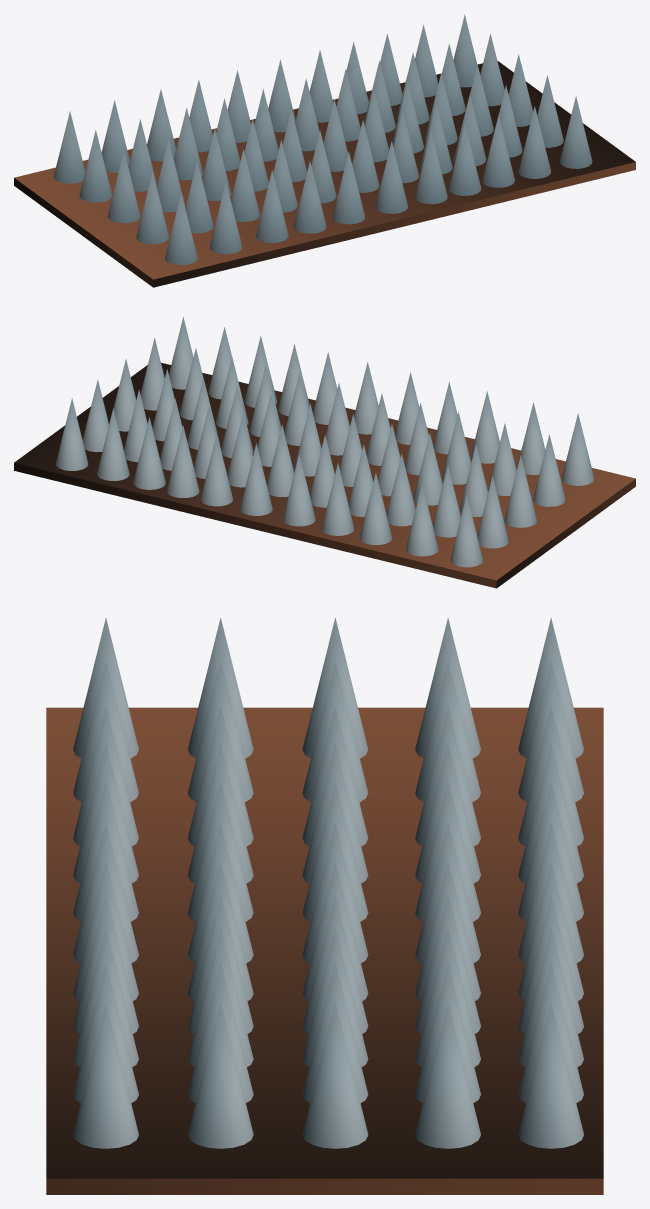
The model's file is Spike Trap.fbx.
3 renders of one model, top to bottom at view 1: azimuth 30°, elevation 25°; view 2: azimuth 150°, elevation 25°; view 3: azimuth 270°, elevation 25°, orthographic. The views are drawn at different scales.
Visible parts, largest first — view 1: Spike Trap; view 2: Spike Trap; view 3: Spike Trap.
Boxes of the visible parts, x1=… form: Spike Trap: x1=14, y1=14, x2=635, y2=287; Spike Trap: x1=14, y1=317, x2=635, y2=588; Spike Trap: x1=46, y1=617, x2=603, y2=1194.
Bounding box in the file's own units: 6.33 × 0.9307 × 3.16.
1 material, 1 textured.
